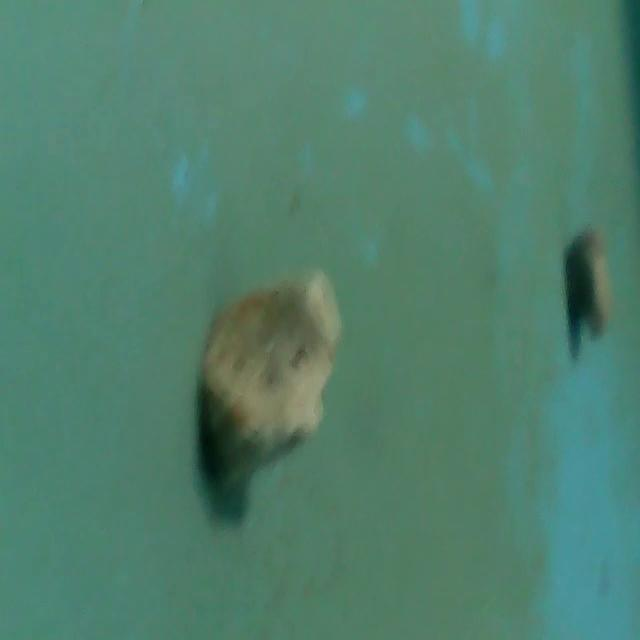rock: (188, 263, 341, 492)
